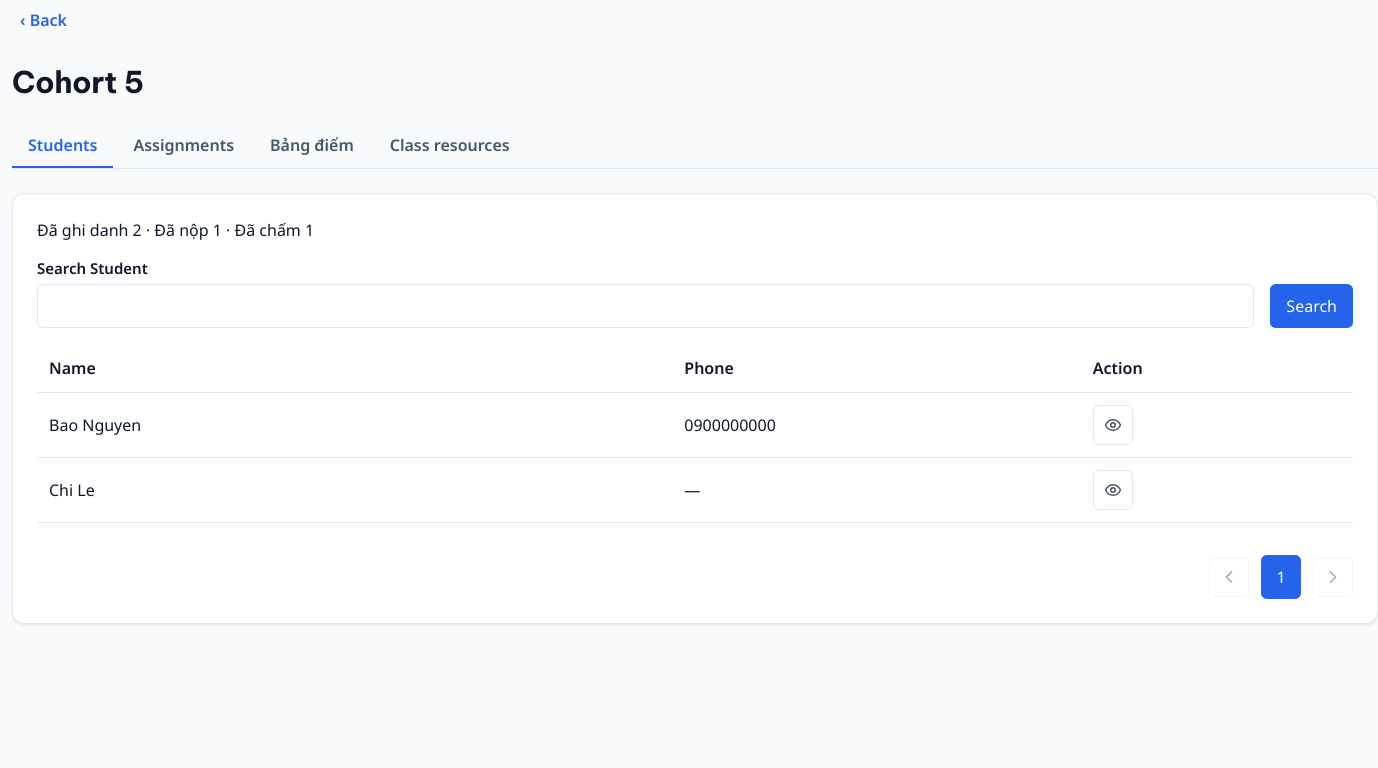
it: Teacher class page › narrows the table on search without changing the header counts
expect the text "Chi Le" is shown: met, box 49,479 -> 95,501
Type "Bao" into the field labelled "Search Student". click: (646,306)
box: 37,284 -> 1254,328
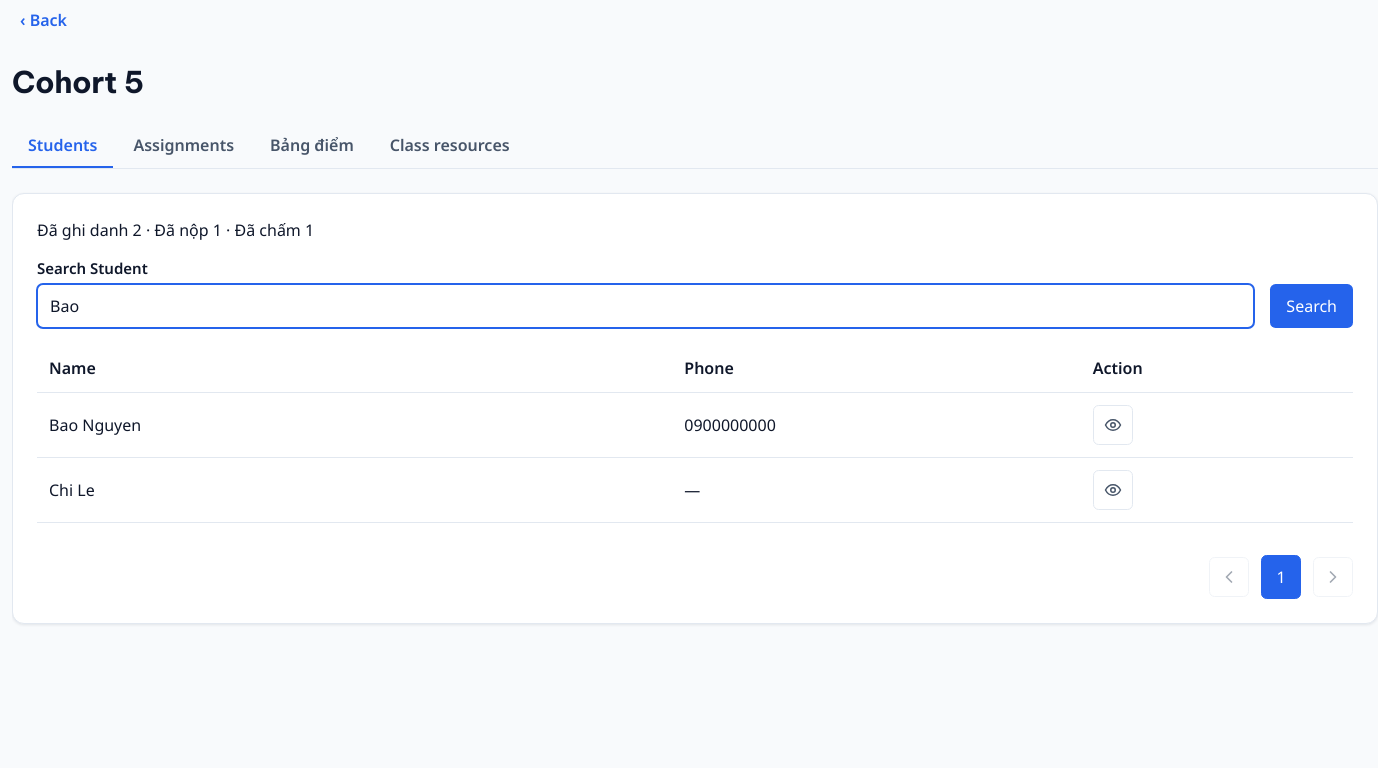
Click the button "Search". click: (1312,306)
box: 1270,284 -> 1353,328
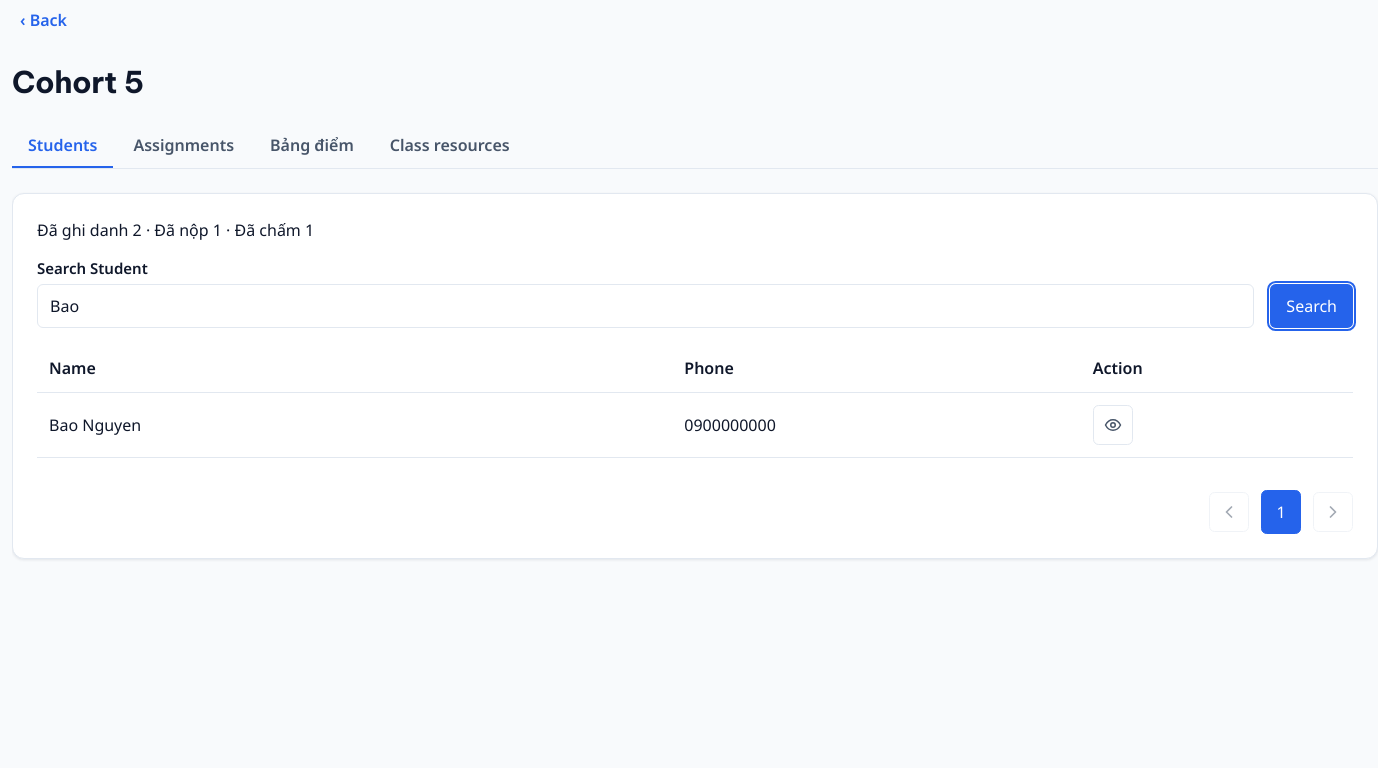
expect the text "Bao Nguyen" is shown: met, box 49,414 -> 141,436
expect the text "Chi Le" is gone: met
